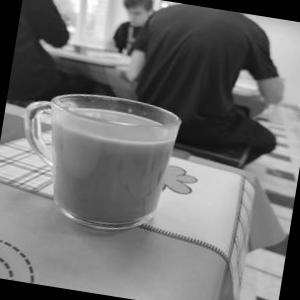coffee: (28, 63, 192, 248)
